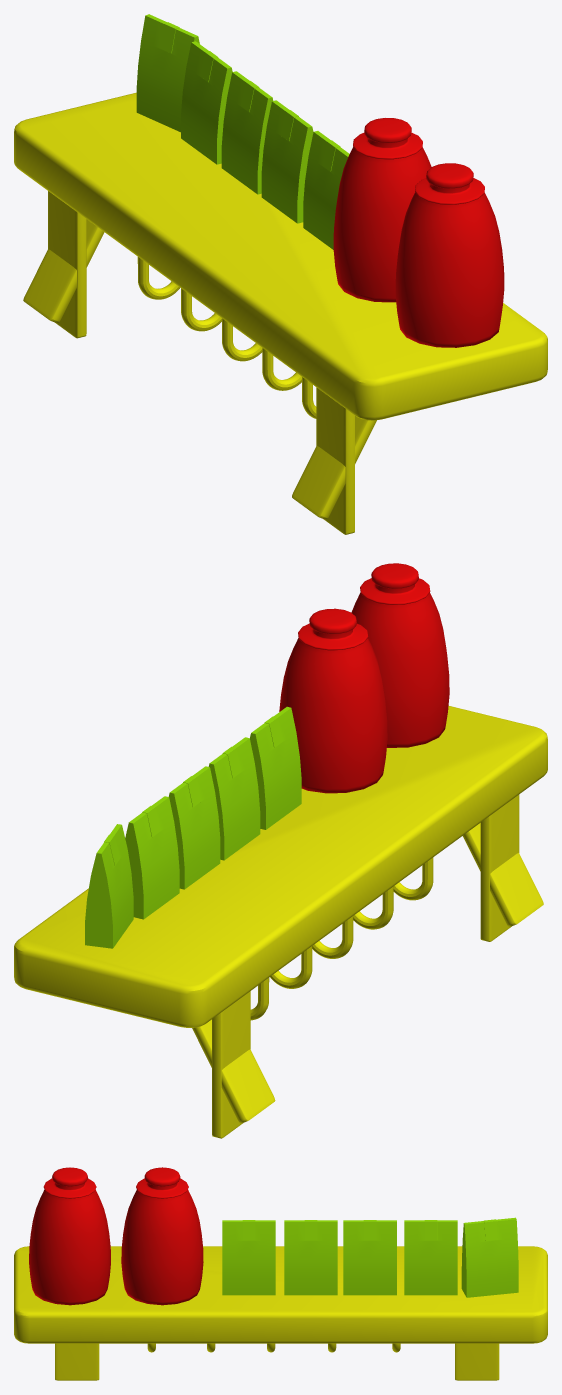
Rendered from Shelf.fbx.
The picture shows the model from 3 angles, top to bottom: view 1: azimuth 30°, elevation 25°; view 2: azimuth 150°, elevation 25°; view 3: azimuth 270°, elevation 25°; orthographic projection. The views are drawn at different scales.
Parts seen in each view (by area): view 1: Shelf; view 2: Shelf; view 3: Shelf.
Boxes of the visible parts, bbox=[...] form: Shelf: bbox=[14, 14, 547, 534]; Shelf: bbox=[14, 563, 547, 1138]; Shelf: bbox=[14, 1167, 547, 1380].
Size of the model in its own units: 42.18 by 63.53 by 126.
